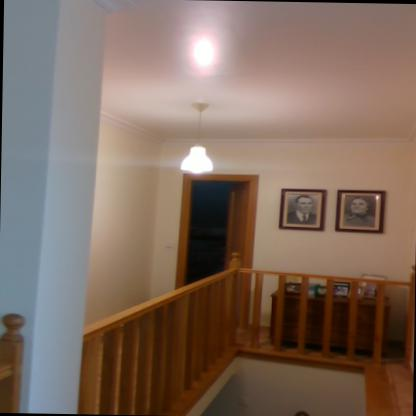open: (171, 167, 256, 281)
